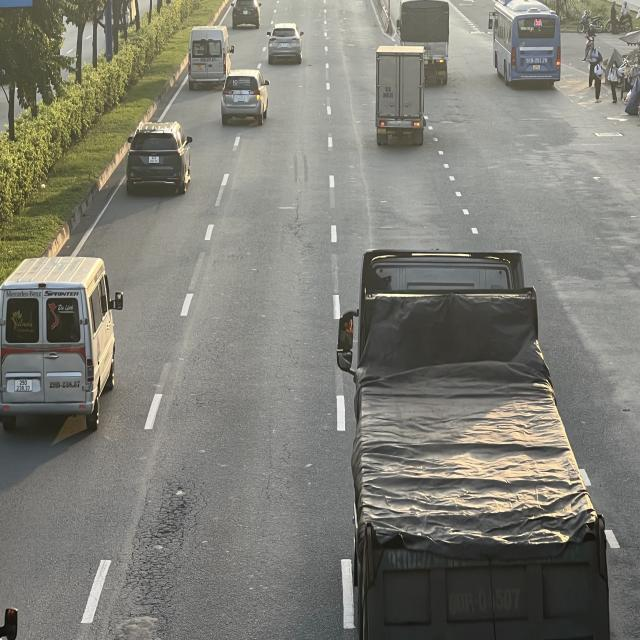car: (124, 120, 192, 193), (222, 66, 274, 122), (266, 24, 305, 64)
coach: (487, 0, 560, 87)
container: (334, 246, 608, 636)
truck: (378, 46, 428, 147), (398, 0, 451, 82)
van: (0, 261, 120, 437), (188, 24, 233, 87)
